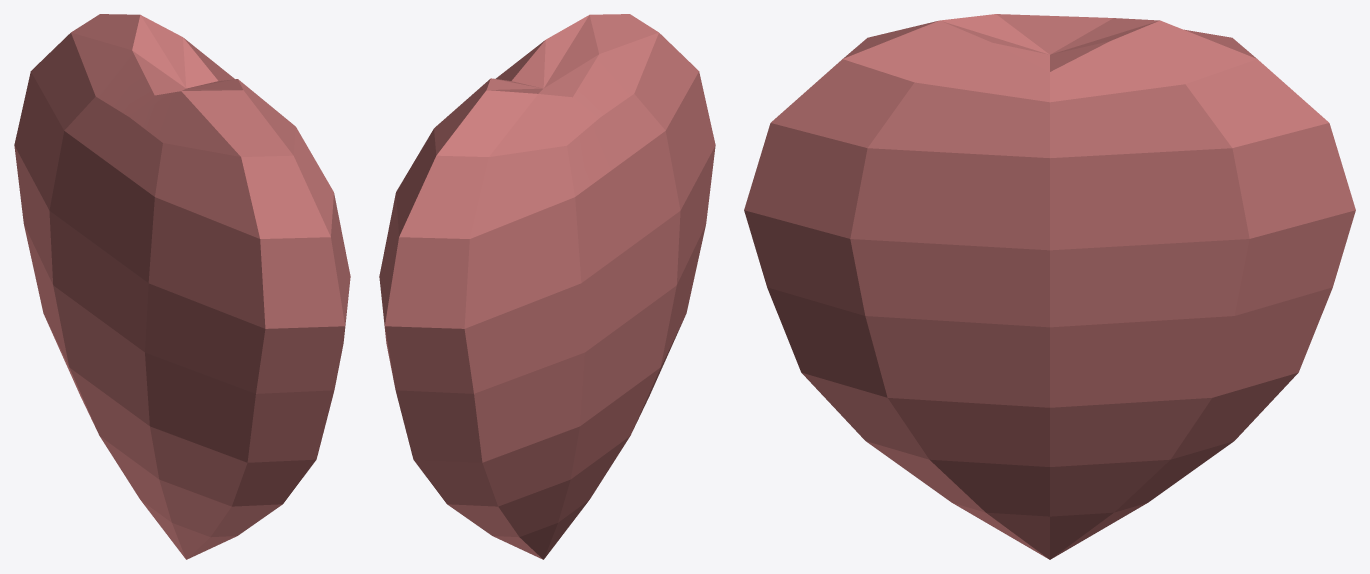
Rendered from Heart.fbx.
3 renders of one model, left to right at view 1: azimuth 30°, elevation 25°; view 2: azimuth 150°, elevation 25°; view 3: azimuth 270°, elevation 25°, orthographic. The views are drawn at different scales.
Parts seen in each view (by area): view 1: pSphere1; view 2: pSphere1; view 3: pSphere1.
Boxes of the visible parts, x1,y1,x2,y2 form: pSphere1: (14,14,350,559); pSphere1: (379,14,715,559); pSphere1: (744,14,1355,559).
Bounding box in the file's own units: 1.44 × 3.87 × 3.95.
